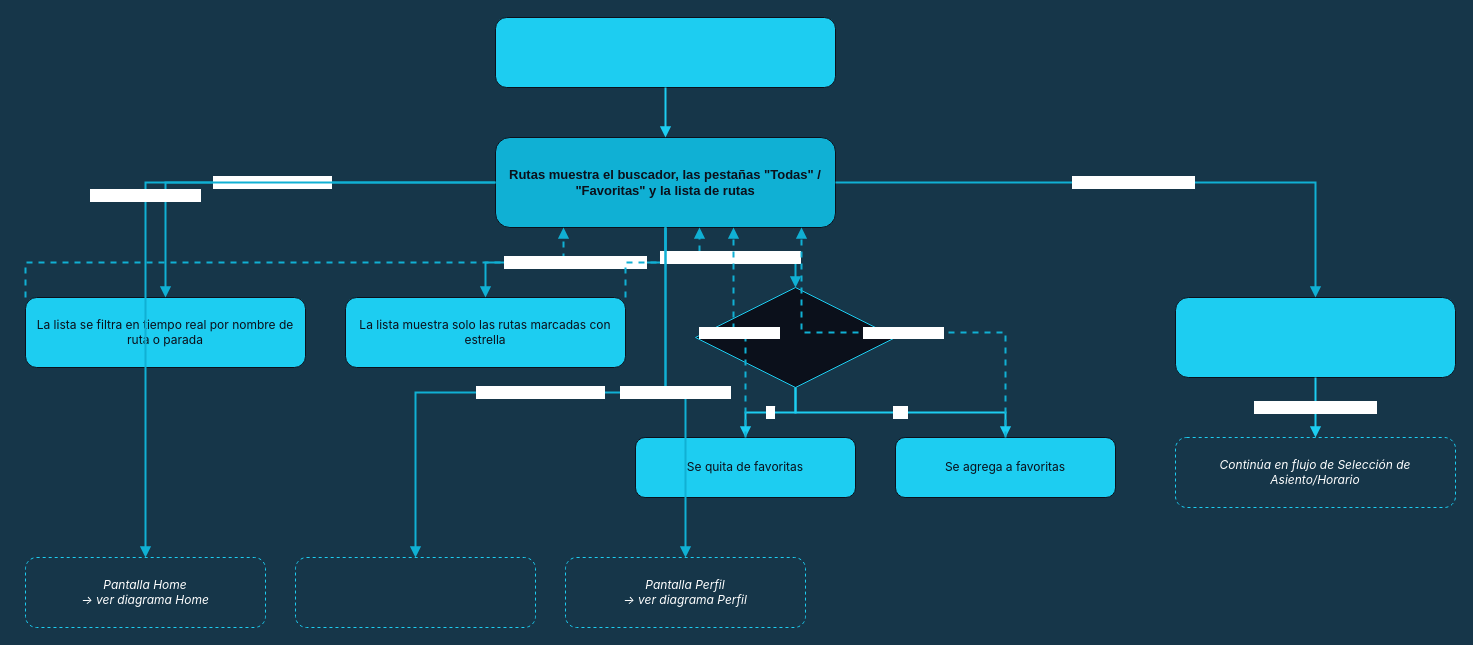
This 1473x645 diagram has some shape labels left out. Each missing label, with the box of its shape:
Pantalla Detalle de Ruta: horarios, paradas y precio: (1174, 296, 1456, 378)
Pantalla Tiquetes → ver diagrama Tiquetes: (294, 556, 536, 628)
Usuario entra a Rutas desde el nav. inferior o desde "Rutas favoritas" en Home: (494, 16, 836, 88)
¿La Ruta ya era Favorita?: (694, 286, 896, 388)
